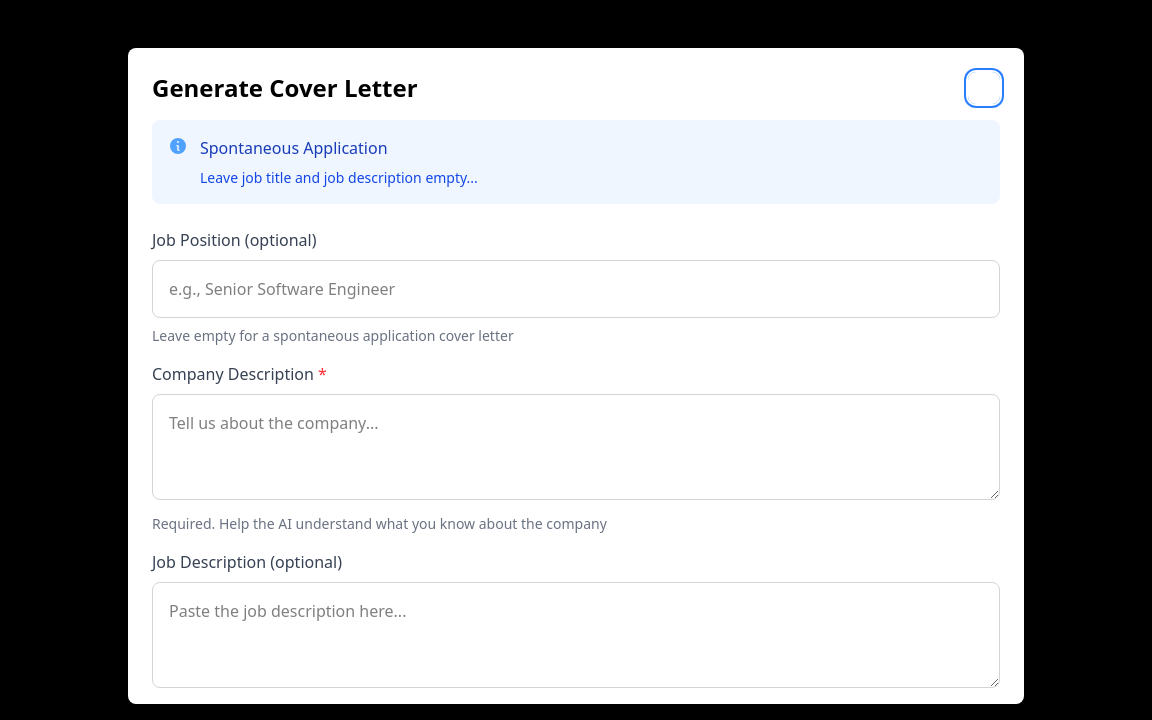
it: Cover Letter Error Handling › Client-side Validation Errors › should show validation error for job position too long
Set long job position by typing part of it and setting the value directly
Step 1. Type "Senior Software Engineer Very Long Position Name..." into the field with placeholder "e.g., Senior Software Engineer" → (576,289), box [152,260,1000,318]
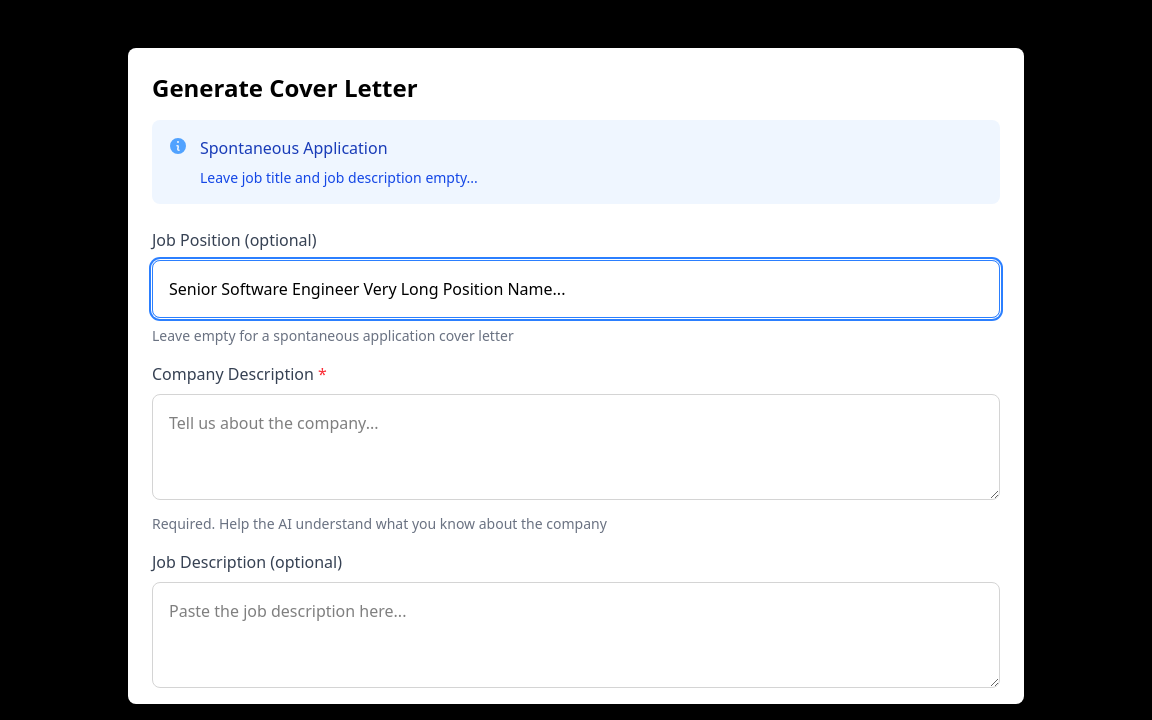
Step 2. Type "Valid company description" into the text box with placeholder "Tell us about the company..." → (576,447), box [152,394,1000,500]
(page scrolled)
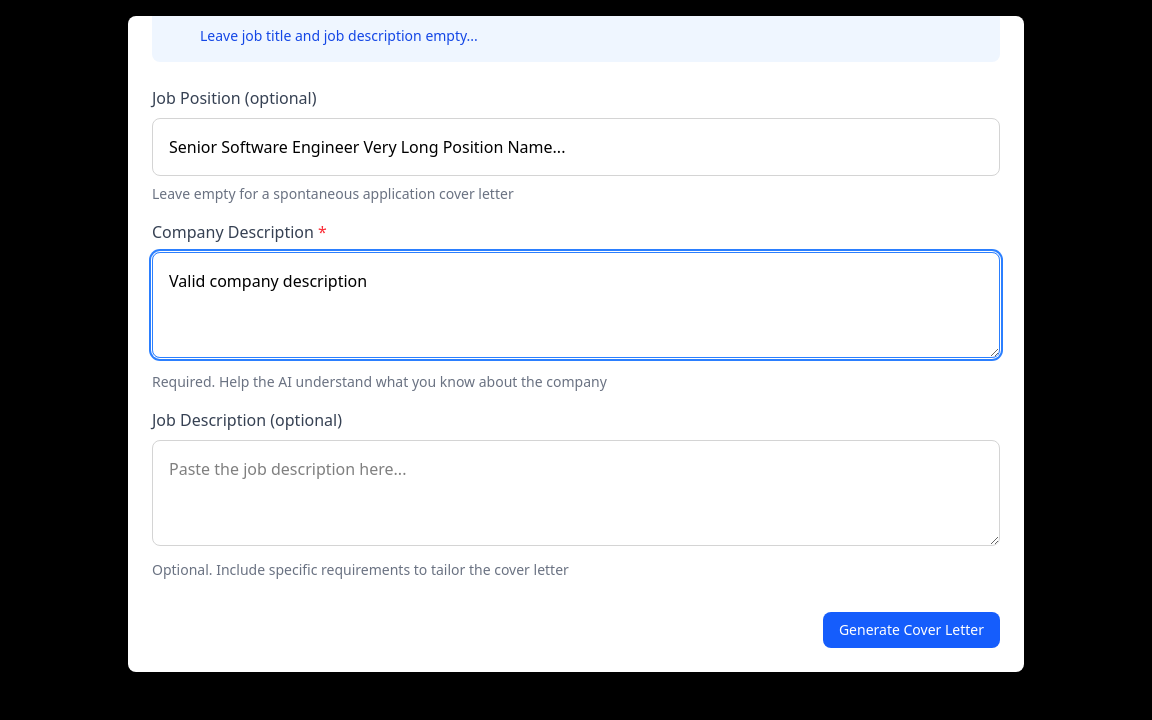
Step 3. Click the button "Generate Cover Letter" → (911,630), box [823,612,1000,648]
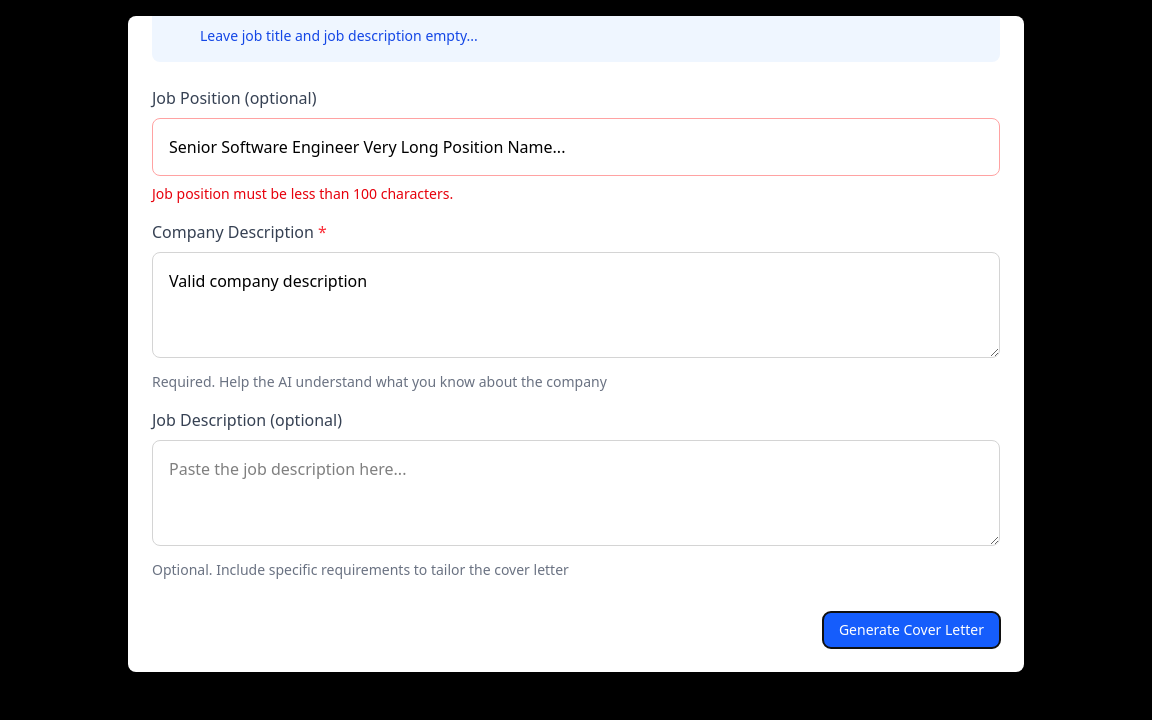
Check: the text "Job position must be less than 100 characters." is shown, box [152,184,453,203]
